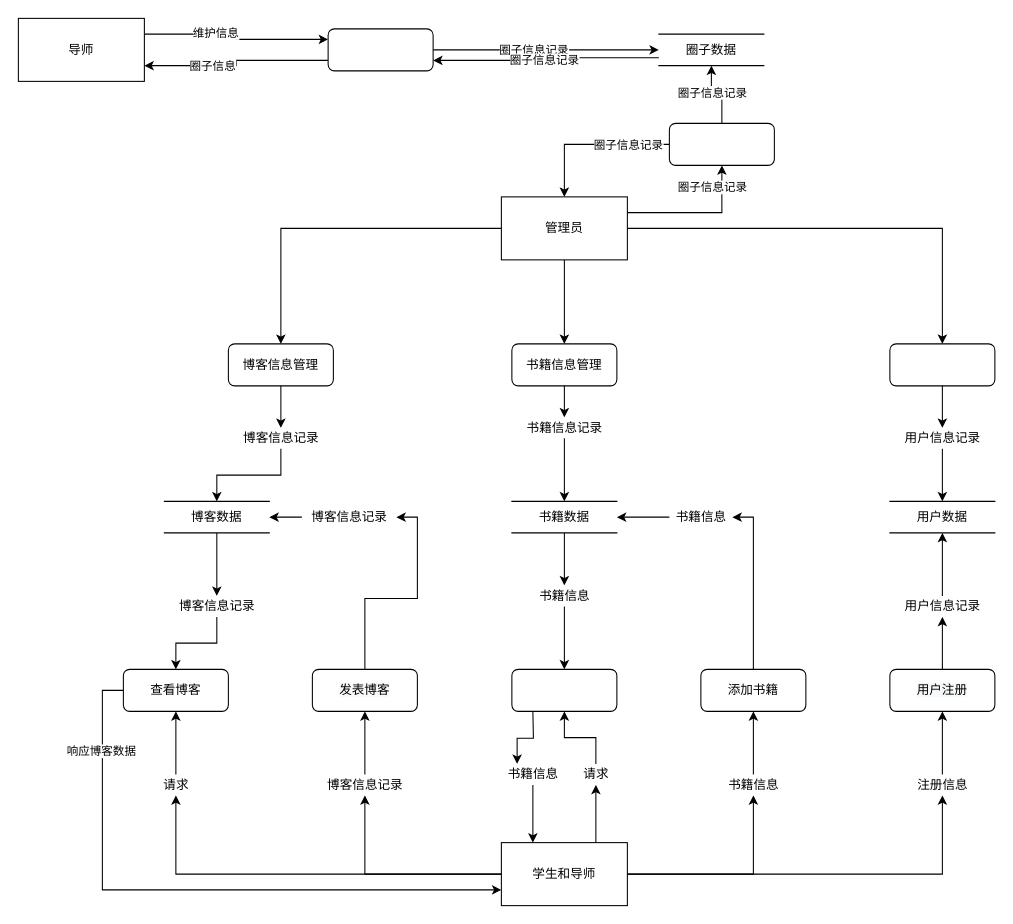
This 1013x924 diagram has some shape labels left out. The box of each missing label's shape, as (x1, y1, x2, y2) in pixels:
圈子信息管理: (668, 122, 774, 165)
查看书籍: (511, 668, 617, 711)
用户信息管理: (889, 343, 995, 386)
维护圈子信息: (327, 28, 433, 71)
